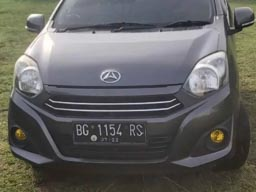plat: (71, 121, 145, 136)
